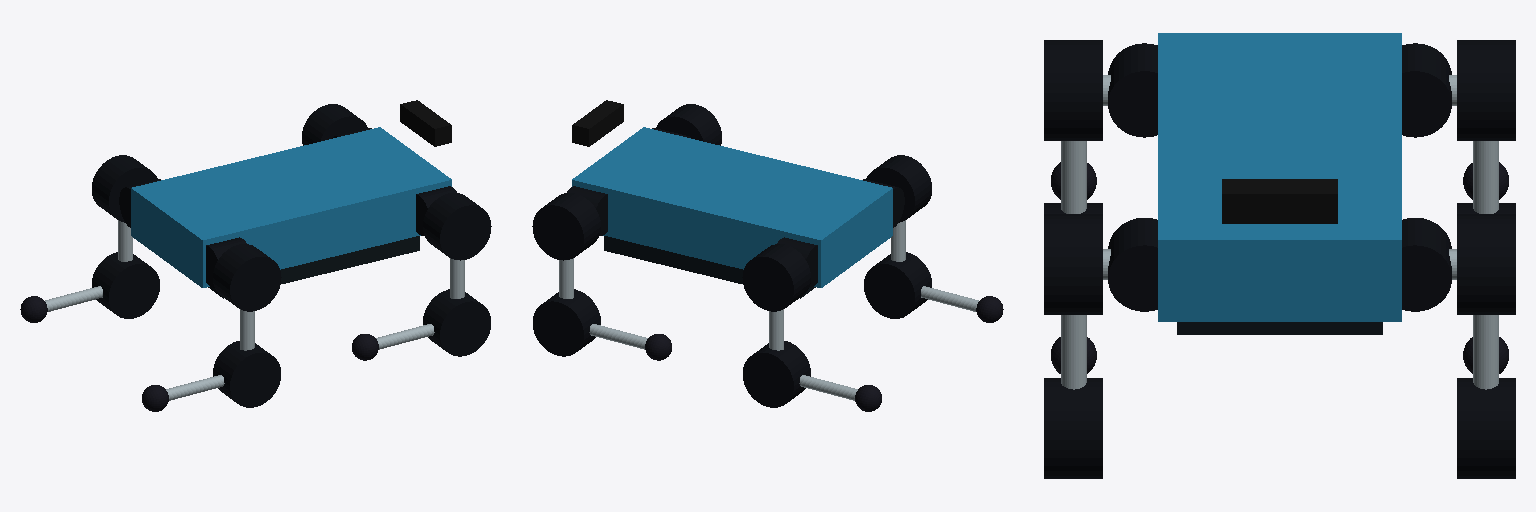
URDF robot description (bigspot_autonomy):
<robot name="bigspot_autonomy">
  <link name="base_link">
    <inertial>
      <origin xyz="0 0 0" rpy="0 0 0" />
      <mass value="3.24" />
      <inertia ixx="0.0210079283333335" iyy="0.05714790083333379" izz="0.07601890083333394" ixy="0.0" ixz="0.0" iyz="0.0" />
    </inertial>
    <visual>
      <origin xyz="0 0 0" rpy="0 -0 0" />
      <geometry>
        <box size="0.38 0.19 0.07" />
      </geometry>
      <material name="color_1">
        <color rgba="0.180000007 0.519999981 0.670000017 1" />
      </material>
    </visual>
    <collision>
      <origin xyz="0 0 0" rpy="0 -0 0" />
      <geometry>
        <box size="0.38 0.19 0.07" />
      </geometry>
    </collision>
    <visual>
      <origin xyz="0 0 -0.05" rpy="0 -0 0" />
      <geometry>
        <box size="0.3 0.16 0.03" />
      </geometry>
      <material name="color_2">
        <color rgba="0.100000001 0.129999995 0.150000006 1" />
      </material>
    </visual>
    <collision>
      <origin xyz="0 0 -0.05" rpy="0 -0 0" />
      <geometry>
        <box size="0.3 0.16 0.03" />
      </geometry>
    </collision>
    <visual>
      <origin xyz="0.205 0 0.075" rpy="0 -0 0" />
      <geometry>
        <box size="0.026 0.09 0.026" />
      </geometry>
      <material name="color_3">
        <color rgba="0.100000001 0.100000001 0.100000001 1" />
      </material>
    </visual>
    <collision>
      <origin xyz="0.205 0 0.075" rpy="0 -0 0" />
      <geometry>
        <box size="0.026 0.09 0.026" />
      </geometry>
    </collision>
    <visual>
      <origin xyz="0.16 0.105 0" rpy="0 1.57079633 0" />
      <geometry>
        <cylinder radius="0.0285" length="0.051" />
      </geometry>
      <material name="color_4">
        <color rgba="0.0900000036 0.100000001 0.119999997 1" />
      </material>
    </visual>
    <collision>
      <origin xyz="0.16 0.105 0" rpy="0 1.57079633 0" />
      <geometry>
        <cylinder radius="0.0285" length="0.051" />
      </geometry>
    </collision>
    <visual>
      <origin xyz="0.16 -0.105 0" rpy="0 1.57079633 0" />
      <geometry>
        <cylinder radius="0.0285" length="0.051" />
      </geometry>
      <material name="color_5">
        <color rgba="0.0900000036 0.100000001 0.119999997 1" />
      </material>
    </visual>
    <collision>
      <origin xyz="0.16 -0.105 0" rpy="0 1.57079633 0" />
      <geometry>
        <cylinder radius="0.0285" length="0.051" />
      </geometry>
    </collision>
    <visual>
      <origin xyz="-0.16 0.105 0" rpy="0 1.57079633 0" />
      <geometry>
        <cylinder radius="0.0285" length="0.051" />
      </geometry>
      <material name="color_6">
        <color rgba="0.0900000036 0.100000001 0.119999997 1" />
      </material>
    </visual>
    <collision>
      <origin xyz="-0.16 0.105 0" rpy="0 1.57079633 0" />
      <geometry>
        <cylinder radius="0.0285" length="0.051" />
      </geometry>
    </collision>
    <visual>
      <origin xyz="-0.16 -0.105 0" rpy="0 1.57079633 0" />
      <geometry>
        <cylinder radius="0.0285" length="0.051" />
      </geometry>
      <material name="color_7">
        <color rgba="0.0900000036 0.100000001 0.119999997 1" />
      </material>
    </visual>
    <collision>
      <origin xyz="-0.16 -0.105 0" rpy="0 1.57079633 0" />
      <geometry>
        <cylinder radius="0.0285" length="0.051" />
      </geometry>
    </collision>
  </link>
  <link name="FL_abduction_link">
    <inertial>
      <origin xyz="0 0.0517119565 0" rpy="0 0 0" />
      <mass value="0.46" />
      <inertia ixx="0.0002879022084322065" iyy="0.00031574542737676156" izz="0.0002879022084322065" ixy="0.0" ixz="0.0" iyz="0.0" />
    </inertial>
    <visual>
      <origin xyz="0 0.0275 0" rpy="1.57079633 0 0" />
      <geometry>
        <cylinder radius="0.012" length="0.055" />
      </geometry>
      <material name="color_8">
        <color rgba="0.649999976 0.699999988 0.720000029 1" />
      </material>
    </visual>
    <collision>
      <origin xyz="0 0.0275 0" rpy="1.57079633 0 0" />
      <geometry>
        <cylinder radius="0.012" length="0.055" />
      </geometry>
    </collision>
    <visual>
      <origin xyz="0 0.055 0" rpy="1.57079633 -0 0" />
      <geometry>
        <cylinder radius="0.03925" length="0.0455" />
      </geometry>
      <material name="color_9">
        <color rgba="0.0900000036 0.100000001 0.119999997 1" />
      </material>
    </visual>
    <collision>
      <origin xyz="0 0.055 0" rpy="1.57079633 -0 0" />
      <geometry>
        <cylinder radius="0.03925" length="0.0455" />
      </geometry>
    </collision>
  </link>
  <joint name="FL_abad" type="revolute">
    <parent link="base_link" />
    <child link="FL_abduction_link" />
    <origin xyz="0.16 0.105 0" rpy="0 -0 0" />
    <axis xyz="1 0 0" />
    <limit lower="-0.65" upper="0.65" effort="14.0" velocity="12" />
  </joint>
  <link name="FL_upper_link">
    <inertial>
      <origin xyz="0 0 -0.128453608" rpy="0 0 0" />
      <mass value="0.48500000000000004" />
      <inertia ixx="0.0007123409228975257" iyy="0.0007984519385225259" izz="0.00022978332540760942" ixy="0.0" ixz="0.0" iyz="0.0" />
    </inertial>
    <visual>
      <origin xyz="0 0 -0.07" rpy="0 -0 0" />
      <geometry>
        <cylinder radius="0.01" length="0.14" />
      </geometry>
      <material name="color_10">
        <color rgba="0.649999976 0.699999988 0.720000029 1" />
      </material>
    </visual>
    <collision>
      <origin xyz="0 0 -0.07" rpy="0 -0 0" />
      <geometry>
        <cylinder radius="0.01" length="0.14" />
      </geometry>
    </collision>
    <visual>
      <origin xyz="0 0 -0.14" rpy="1.57079633 -0 0" />
      <geometry>
        <cylinder radius="0.03925" length="0.0455" />
      </geometry>
      <material name="color_11">
        <color rgba="0.0900000036 0.100000001 0.119999997 1" />
      </material>
    </visual>
    <collision>
      <origin xyz="0 0 -0.14" rpy="1.57079633 -0 0" />
      <geometry>
        <cylinder radius="0.03925" length="0.0455" />
      </geometry>
    </collision>
  </link>
  <joint name="FL_hip" type="revolute">
    <parent link="FL_abduction_link" />
    <child link="FL_upper_link" />
    <origin xyz="0 0.055 0" rpy="0 -0 0" />
    <axis xyz="0 1 0" />
    <limit lower="-2.1" upper="1.25" effort="17.0" velocity="12" />
  </joint>
  <link name="FL_lower_link">
    <inertial>
      <origin xyz="0 0 -0.0913043478" rpy="0 0 0" />
      <mass value="0.115" />
      <inertia ixx="0.0002767216221623702" iyy="0.0002767216221623702" izz="7.059752212389381e-06" ixy="0.0" ixz="0.0" iyz="0.0" />
    </inertial>
    <visual>
      <origin xyz="0 0 -0.07" rpy="0 -0 0" />
      <geometry>
        <cylinder radius="0.008" length="0.14" />
      </geometry>
      <material name="color_12">
        <color rgba="0.649999976 0.699999988 0.720000029 1" />
      </material>
    </visual>
    <collision>
      <origin xyz="0 0 -0.07" rpy="0 -0 0" />
      <geometry>
        <cylinder radius="0.008" length="0.14" />
      </geometry>
    </collision>
    <visual>
      <origin xyz="0 0 -0.14" rpy="0 -0 0" />
      <geometry>
        <sphere radius="0.018" />
      </geometry>
      <material name="color_13">
        <color rgba="0.119999997 0.119999997 0.150000006 1" />
      </material>
    </visual>
    <collision>
      <origin xyz="0 0 -0.14" rpy="0 -0 0" />
      <geometry>
        <sphere radius="0.018" />
      </geometry>
    </collision>
  </link>
  <joint name="FL_knee" type="revolute">
    <parent link="FL_upper_link" />
    <child link="FL_lower_link" />
    <origin xyz="0 0 -0.14" rpy="0 -0 0" />
    <axis xyz="0 1 0" />
    <limit lower="0.1" upper="3.0" effort="17.0" velocity="12" />
  </joint>
  <link name="FR_abduction_link">
    <inertial>
      <origin xyz="0 -0.0517119565 0" rpy="0 0 0" />
      <mass value="0.46" />
      <inertia ixx="0.0002879022084322065" iyy="0.00031574542737676156" izz="0.0002879022084322065" ixy="0.0" ixz="0.0" iyz="0.0" />
    </inertial>
    <visual>
      <origin xyz="0 -0.0275 0" rpy="-1.57079633 0 0" />
      <geometry>
        <cylinder radius="0.012" length="0.055" />
      </geometry>
      <material name="color_14">
        <color rgba="0.649999976 0.699999988 0.720000029 1" />
      </material>
    </visual>
    <collision>
      <origin xyz="0 -0.0275 0" rpy="-1.57079633 0 0" />
      <geometry>
        <cylinder radius="0.012" length="0.055" />
      </geometry>
    </collision>
    <visual>
      <origin xyz="0 -0.055 0" rpy="1.57079633 -0 0" />
      <geometry>
        <cylinder radius="0.03925" length="0.0455" />
      </geometry>
      <material name="color_15">
        <color rgba="0.0900000036 0.100000001 0.119999997 1" />
      </material>
    </visual>
    <collision>
      <origin xyz="0 -0.055 0" rpy="1.57079633 -0 0" />
      <geometry>
        <cylinder radius="0.03925" length="0.0455" />
      </geometry>
    </collision>
  </link>
  <joint name="FR_abad" type="revolute">
    <parent link="base_link" />
    <child link="FR_abduction_link" />
    <origin xyz="0.16 -0.105 0" rpy="0 -0 0" />
    <axis xyz="1 0 0" />
    <limit lower="-0.65" upper="0.65" effort="14.0" velocity="12" />
  </joint>
  <link name="FR_upper_link">
    <inertial>
      <origin xyz="0 0 -0.128453608" rpy="0 0 0" />
      <mass value="0.48500000000000004" />
      <inertia ixx="0.0007123409228975257" iyy="0.0007984519385225259" izz="0.00022978332540760942" ixy="0.0" ixz="0.0" iyz="0.0" />
    </inertial>
    <visual>
      <origin xyz="0 0 -0.07" rpy="0 -0 0" />
      <geometry>
        <cylinder radius="0.01" length="0.14" />
      </geometry>
      <material name="color_16">
        <color rgba="0.649999976 0.699999988 0.720000029 1" />
      </material>
    </visual>
    <collision>
      <origin xyz="0 0 -0.07" rpy="0 -0 0" />
      <geometry>
        <cylinder radius="0.01" length="0.14" />
      </geometry>
    </collision>
    <visual>
      <origin xyz="0 0 -0.14" rpy="1.57079633 -0 0" />
      <geometry>
        <cylinder radius="0.03925" length="0.0455" />
      </geometry>
      <material name="color_17">
        <color rgba="0.0900000036 0.100000001 0.119999997 1" />
      </material>
    </visual>
    <collision>
      <origin xyz="0 0 -0.14" rpy="1.57079633 -0 0" />
      <geometry>
        <cylinder radius="0.03925" length="0.0455" />
      </geometry>
    </collision>
  </link>
  <joint name="FR_hip" type="revolute">
    <parent link="FR_abduction_link" />
    <child link="FR_upper_link" />
    <origin xyz="0 -0.055 0" rpy="0 -0 0" />
    <axis xyz="0 1 0" />
    <limit lower="-2.1" upper="1.25" effort="17.0" velocity="12" />
  </joint>
  <link name="FR_lower_link">
    <inertial>
      <origin xyz="0 0 -0.0913043478" rpy="0 0 0" />
      <mass value="0.115" />
      <inertia ixx="0.0002767216221623702" iyy="0.0002767216221623702" izz="7.059752212389381e-06" ixy="0.0" ixz="0.0" iyz="0.0" />
    </inertial>
    <visual>
      <origin xyz="0 0 -0.07" rpy="0 -0 0" />
      <geometry>
        <cylinder radius="0.008" length="0.14" />
      </geometry>
      <material name="color_18">
        <color rgba="0.649999976 0.699999988 0.720000029 1" />
      </material>
    </visual>
    <collision>
      <origin xyz="0 0 -0.07" rpy="0 -0 0" />
      <geometry>
        <cylinder radius="0.008" length="0.14" />
      </geometry>
    </collision>
    <visual>
      <origin xyz="0 0 -0.14" rpy="0 -0 0" />
      <geometry>
        <sphere radius="0.018" />
      </geometry>
      <material name="color_19">
        <color rgba="0.119999997 0.119999997 0.150000006 1" />
      </material>
    </visual>
    <collision>
      <origin xyz="0 0 -0.14" rpy="0 -0 0" />
      <geometry>
        <sphere radius="0.018" />
      </geometry>
    </collision>
  </link>
  <joint name="FR_knee" type="revolute">
    <parent link="FR_upper_link" />
    <child link="FR_lower_link" />
    <origin xyz="0 0 -0.14" rpy="0 -0 0" />
    <axis xyz="0 1 0" />
    <limit lower="0.1" upper="3.0" effort="17.0" velocity="12" />
  </joint>
  <link name="RL_abduction_link">
    <inertial>
      <origin xyz="0 0.0517119565 0" rpy="0 0 0" />
      <mass value="0.46" />
      <inertia ixx="0.0002879022084322065" iyy="0.00031574542737676156" izz="0.0002879022084322065" ixy="0.0" ixz="0.0" iyz="0.0" />
    </inertial>
    <visual>
      <origin xyz="0 0.0275 0" rpy="1.57079633 0 0" />
      <geometry>
        <cylinder radius="0.012" length="0.055" />
      </geometry>
      <material name="color_20">
        <color rgba="0.649999976 0.699999988 0.720000029 1" />
      </material>
    </visual>
    <collision>
      <origin xyz="0 0.0275 0" rpy="1.57079633 0 0" />
      <geometry>
        <cylinder radius="0.012" length="0.055" />
      </geometry>
    </collision>
    <visual>
      <origin xyz="0 0.055 0" rpy="1.57079633 -0 0" />
      <geometry>
        <cylinder radius="0.03925" length="0.0455" />
      </geometry>
      <material name="color_21">
        <color rgba="0.0900000036 0.100000001 0.119999997 1" />
      </material>
    </visual>
    <collision>
      <origin xyz="0 0.055 0" rpy="1.57079633 -0 0" />
      <geometry>
        <cylinder radius="0.03925" length="0.0455" />
      </geometry>
    </collision>
  </link>
  <joint name="RL_abad" type="revolute">
    <parent link="base_link" />
    <child link="RL_abduction_link" />
    <origin xyz="-0.16 0.105 0" rpy="0 -0 0" />
    <axis xyz="1 0 0" />
    <limit lower="-0.65" upper="0.65" effort="14.0" velocity="12" />
  </joint>
  <link name="RL_upper_link">
    <inertial>
      <origin xyz="0 0 -0.128453608" rpy="0 0 0" />
      <mass value="0.48500000000000004" />
      <inertia ixx="0.0007123409228975257" iyy="0.0007984519385225259" izz="0.00022978332540760942" ixy="0.0" ixz="0.0" iyz="0.0" />
    </inertial>
    <visual>
      <origin xyz="0 0 -0.07" rpy="0 -0 0" />
      <geometry>
        <cylinder radius="0.01" length="0.14" />
      </geometry>
      <material name="color_22">
        <color rgba="0.649999976 0.699999988 0.720000029 1" />
      </material>
    </visual>
    <collision>
      <origin xyz="0 0 -0.07" rpy="0 -0 0" />
      <geometry>
        <cylinder radius="0.01" length="0.14" />
      </geometry>
    </collision>
    <visual>
      <origin xyz="0 0 -0.14" rpy="1.57079633 -0 0" />
      <geometry>
        <cylinder radius="0.03925" length="0.0455" />
      </geometry>
      <material name="color_23">
        <color rgba="0.0900000036 0.100000001 0.119999997 1" />
      </material>
    </visual>
    <collision>
      <origin xyz="0 0 -0.14" rpy="1.57079633 -0 0" />
      <geometry>
        <cylinder radius="0.03925" length="0.0455" />
      </geometry>
    </collision>
  </link>
  <joint name="RL_hip" type="revolute">
    <parent link="RL_abduction_link" />
    <child link="RL_upper_link" />
    <origin xyz="0 0.055 0" rpy="0 -0 0" />
    <axis xyz="0 1 0" />
    <limit lower="-2.1" upper="1.25" effort="17.0" velocity="12" />
  </joint>
  <link name="RL_lower_link">
    <inertial>
      <origin xyz="0 0 -0.0913043478" rpy="0 0 0" />
      <mass value="0.115" />
      <inertia ixx="0.0002767216221623702" iyy="0.0002767216221623702" izz="7.059752212389381e-06" ixy="0.0" ixz="0.0" iyz="0.0" />
    </inertial>
    <visual>
      <origin xyz="0 0 -0.07" rpy="0 -0 0" />
      <geometry>
        <cylinder radius="0.008" length="0.14" />
      </geometry>
      <material name="color_24">
        <color rgba="0.649999976 0.699999988 0.720000029 1" />
      </material>
    </visual>
    <collision>
      <origin xyz="0 0 -0.07" rpy="0 -0 0" />
      <geometry>
        <cylinder radius="0.008" length="0.14" />
      </geometry>
    </collision>
    <visual>
      <origin xyz="0 0 -0.14" rpy="0 -0 0" />
      <geometry>
        <sphere radius="0.018" />
      </geometry>
      <material name="color_25">
        <color rgba="0.119999997 0.119999997 0.150000006 1" />
      </material>
    </visual>
    <collision>
      <origin xyz="0 0 -0.14" rpy="0 -0 0" />
      <geometry>
        <sphere radius="0.018" />
      </geometry>
    </collision>
  </link>
  <joint name="RL_knee" type="revolute">
    <parent link="RL_upper_link" />
    <child link="RL_lower_link" />
    <origin xyz="0 0 -0.14" rpy="0 -0 0" />
    <axis xyz="0 1 0" />
    <limit lower="0.1" upper="3.0" effort="17.0" velocity="12" />
  </joint>
  <link name="RR_abduction_link">
    <inertial>
      <origin xyz="0 -0.0517119565 0" rpy="0 0 0" />
      <mass value="0.46" />
      <inertia ixx="0.0002879022084322065" iyy="0.00031574542737676156" izz="0.0002879022084322065" ixy="0.0" ixz="0.0" iyz="0.0" />
    </inertial>
    <visual>
      <origin xyz="0 -0.0275 0" rpy="-1.57079633 0 0" />
      <geometry>
        <cylinder radius="0.012" length="0.055" />
      </geometry>
      <material name="color_26">
        <color rgba="0.649999976 0.699999988 0.720000029 1" />
      </material>
    </visual>
    <collision>
      <origin xyz="0 -0.0275 0" rpy="-1.57079633 0 0" />
      <geometry>
        <cylinder radius="0.012" length="0.055" />
      </geometry>
    </collision>
    <visual>
      <origin xyz="0 -0.055 0" rpy="1.57079633 -0 0" />
      <geometry>
        <cylinder radius="0.03925" length="0.0455" />
      </geometry>
      <material name="color_27">
        <color rgba="0.0900000036 0.100000001 0.119999997 1" />
      </material>
    </visual>
    <collision>
      <origin xyz="0 -0.055 0" rpy="1.57079633 -0 0" />
      <geometry>
        <cylinder radius="0.03925" length="0.0455" />
      </geometry>
    </collision>
  </link>
  <joint name="RR_abad" type="revolute">
    <parent link="base_link" />
    <child link="RR_abduction_link" />
    <origin xyz="-0.16 -0.105 0" rpy="0 -0 0" />
    <axis xyz="1 0 0" />
    <limit lower="-0.65" upper="0.65" effort="14.0" velocity="12" />
  </joint>
  <link name="RR_upper_link">
    <inertial>
      <origin xyz="0 0 -0.128453608" rpy="0 0 0" />
      <mass value="0.48500000000000004" />
      <inertia ixx="0.0007123409228975257" iyy="0.0007984519385225259" izz="0.00022978332540760942" ixy="0.0" ixz="0.0" iyz="0.0" />
    </inertial>
    <visual>
      <origin xyz="0 0 -0.07" rpy="0 -0 0" />
      <geometry>
        <cylinder radius="0.01" length="0.14" />
      </geometry>
      <material name="color_28">
        <color rgba="0.649999976 0.699999988 0.720000029 1" />
      </material>
    </visual>
    <collision>
      <origin xyz="0 0 -0.07" rpy="0 -0 0" />
      <geometry>
        <cylinder radius="0.01" length="0.14" />
      </geometry>
    </collision>
    <visual>
      <origin xyz="0 0 -0.14" rpy="1.57079633 -0 0" />
      <geometry>
        <cylinder radius="0.03925" length="0.0455" />
      </geometry>
      <material name="color_29">
        <color rgba="0.0900000036 0.100000001 0.119999997 1" />
      </material>
    </visual>
    <collision>
      <origin xyz="0 0 -0.14" rpy="1.57079633 -0 0" />
      <geometry>
        <cylinder radius="0.03925" length="0.0455" />
      </geometry>
    </collision>
  </link>
  <joint name="RR_hip" type="revolute">
    <parent link="RR_abduction_link" />
    <child link="RR_upper_link" />
    <origin xyz="0 -0.055 0" rpy="0 -0 0" />
    <axis xyz="0 1 0" />
    <limit lower="-2.1" upper="1.25" effort="17.0" velocity="12" />
  </joint>
  <link name="RR_lower_link">
    <inertial>
      <origin xyz="0 0 -0.0913043478" rpy="0 0 0" />
      <mass value="0.115" />
      <inertia ixx="0.0002767216221623702" iyy="0.0002767216221623702" izz="7.059752212389381e-06" ixy="0.0" ixz="0.0" iyz="0.0" />
    </inertial>
    <visual>
      <origin xyz="0 0 -0.07" rpy="0 -0 0" />
      <geometry>
        <cylinder radius="0.008" length="0.14" />
      </geometry>
      <material name="color_30">
        <color rgba="0.649999976 0.699999988 0.720000029 1" />
      </material>
    </visual>
    <collision>
      <origin xyz="0 0 -0.07" rpy="0 -0 0" />
      <geometry>
        <cylinder radius="0.008" length="0.14" />
      </geometry>
    </collision>
    <visual>
      <origin xyz="0 0 -0.14" rpy="0 -0 0" />
      <geometry>
        <sphere radius="0.018" />
      </geometry>
      <material name="color_31">
        <color rgba="0.119999997 0.119999997 0.150000006 1" />
      </material>
    </visual>
    <collision>
      <origin xyz="0 0 -0.14" rpy="0 -0 0" />
      <geometry>
        <sphere radius="0.018" />
      </geometry>
    </collision>
  </link>
  <joint name="RR_knee" type="revolute">
    <parent link="RR_upper_link" />
    <child link="RR_lower_link" />
    <origin xyz="0 0 -0.14" rpy="0 -0 0" />
    <axis xyz="0 1 0" />
    <limit lower="0.1" upper="3.0" effort="17.0" velocity="12" />
  </joint>
  <link name="camera_link" />
  <joint name="camera_link_mount" type="fixed">
    <parent link="base_link" />
    <child link="camera_link" />
    <origin xyz="0.205 0 0.075" rpy="0 0.20943951 0" />
  </joint>
  <link name="body_imu_link" />
  <joint name="body_imu_link_mount" type="fixed">
    <parent link="base_link" />
    <child link="body_imu_link" />
    <origin xyz="0 0 0" rpy="0 0 0" />
  </joint>
</robot>

--- What the picture shows (computed from the rendered views, not written in the file) ---
3 views of the same robot in one strip: view 1: azimuth 30°, elevation 25°; view 2: azimuth 150°, elevation 25°; view 3: azimuth 270°, elevation 25° (orthographic).
Model bigspot_autonomy with 15 links and 14 joints (12 revolute, 2 fixed), rooted at base_link, posed all joints at 0 but 4 set to mid-range because 0 is outside their limits (FL_knee = 1.55, FR_knee = 1.55, RL_knee = 1.55, RR_knee = 1.55).
Links seen in each view (by area): view 1: base_link, FR_upper_link, RR_upper_link, RL_upper_link, RR_abduction_link, FR_abduction_link, RL_abduction_link, FL_abduction_link, RR_lower_link, RL_lower_link, FR_lower_link; view 2: base_link, FL_upper_link, RL_upper_link, RR_upper_link, RL_abduction_link, FL_abduction_link, RR_abduction_link, FR_abduction_link, RL_lower_link, RR_lower_link, FL_lower_link; view 3: base_link, FL_upper_link, FR_upper_link, FL_abduction_link, FR_abduction_link, RL_abduction_link, RR_abduction_link, RL_upper_link, RR_upper_link, RL_lower_link, RR_lower_link, FL_lower_link (+1 smaller).
Link boxes in pixels (<box>): base_link: <box>119,100,456,298</box>; FR_upper_link: <box>423,258,490,356</box>; RR_upper_link: <box>213,309,280,407</box>; RL_upper_link: <box>92,220,159,318</box>; RR_abduction_link: <box>213,244,281,311</box>; FR_abduction_link: <box>423,193,491,260</box>; RL_abduction_link: <box>92,155,157,222</box>; FL_abduction_link: <box>302,104,367,145</box>; RR_lower_link: <box>142,375,224,411</box>; RL_lower_link: <box>20,286,102,322</box>; FR_lower_link: <box>352,324,434,360</box>; base_link: <box>567,100,904,298</box>; FL_upper_link: <box>533,258,600,356</box>; RL_upper_link: <box>743,309,810,407</box>; RR_upper_link: <box>864,220,931,318</box>; RL_abduction_link: <box>742,244,810,311</box>; FL_abduction_link: <box>532,193,600,260</box>; RR_abduction_link: <box>866,155,931,222</box>; FR_abduction_link: <box>656,104,721,145</box>; RL_lower_link: <box>799,375,881,411</box>; RR_lower_link: <box>921,286,1003,322</box>; FL_lower_link: <box>589,324,671,360</box>; base_link: <box>1108,33,1451,334</box>; FL_upper_link: <box>1457,315,1515,478</box>; FR_upper_link: <box>1044,315,1102,478</box>; FL_abduction_link: <box>1449,214,1515,314</box>; FR_abduction_link: <box>1044,214,1110,314</box>; RL_abduction_link: <box>1449,40,1515,140</box>; RR_abduction_link: <box>1044,40,1110,140</box>; RL_upper_link: <box>1457,141,1515,213</box>; RR_upper_link: <box>1044,141,1102,213</box>; RL_lower_link: <box>1463,162,1508,199</box>; RR_lower_link: <box>1051,162,1096,199</box>; FL_lower_link: <box>1463,337,1508,373</box>.
Bounding box of the posed robot: 0.536 × 0.3655 × 0.2673 m (x, y, z).
Geometry: primitives only (box / cylinder / sphere), no mesh files.
